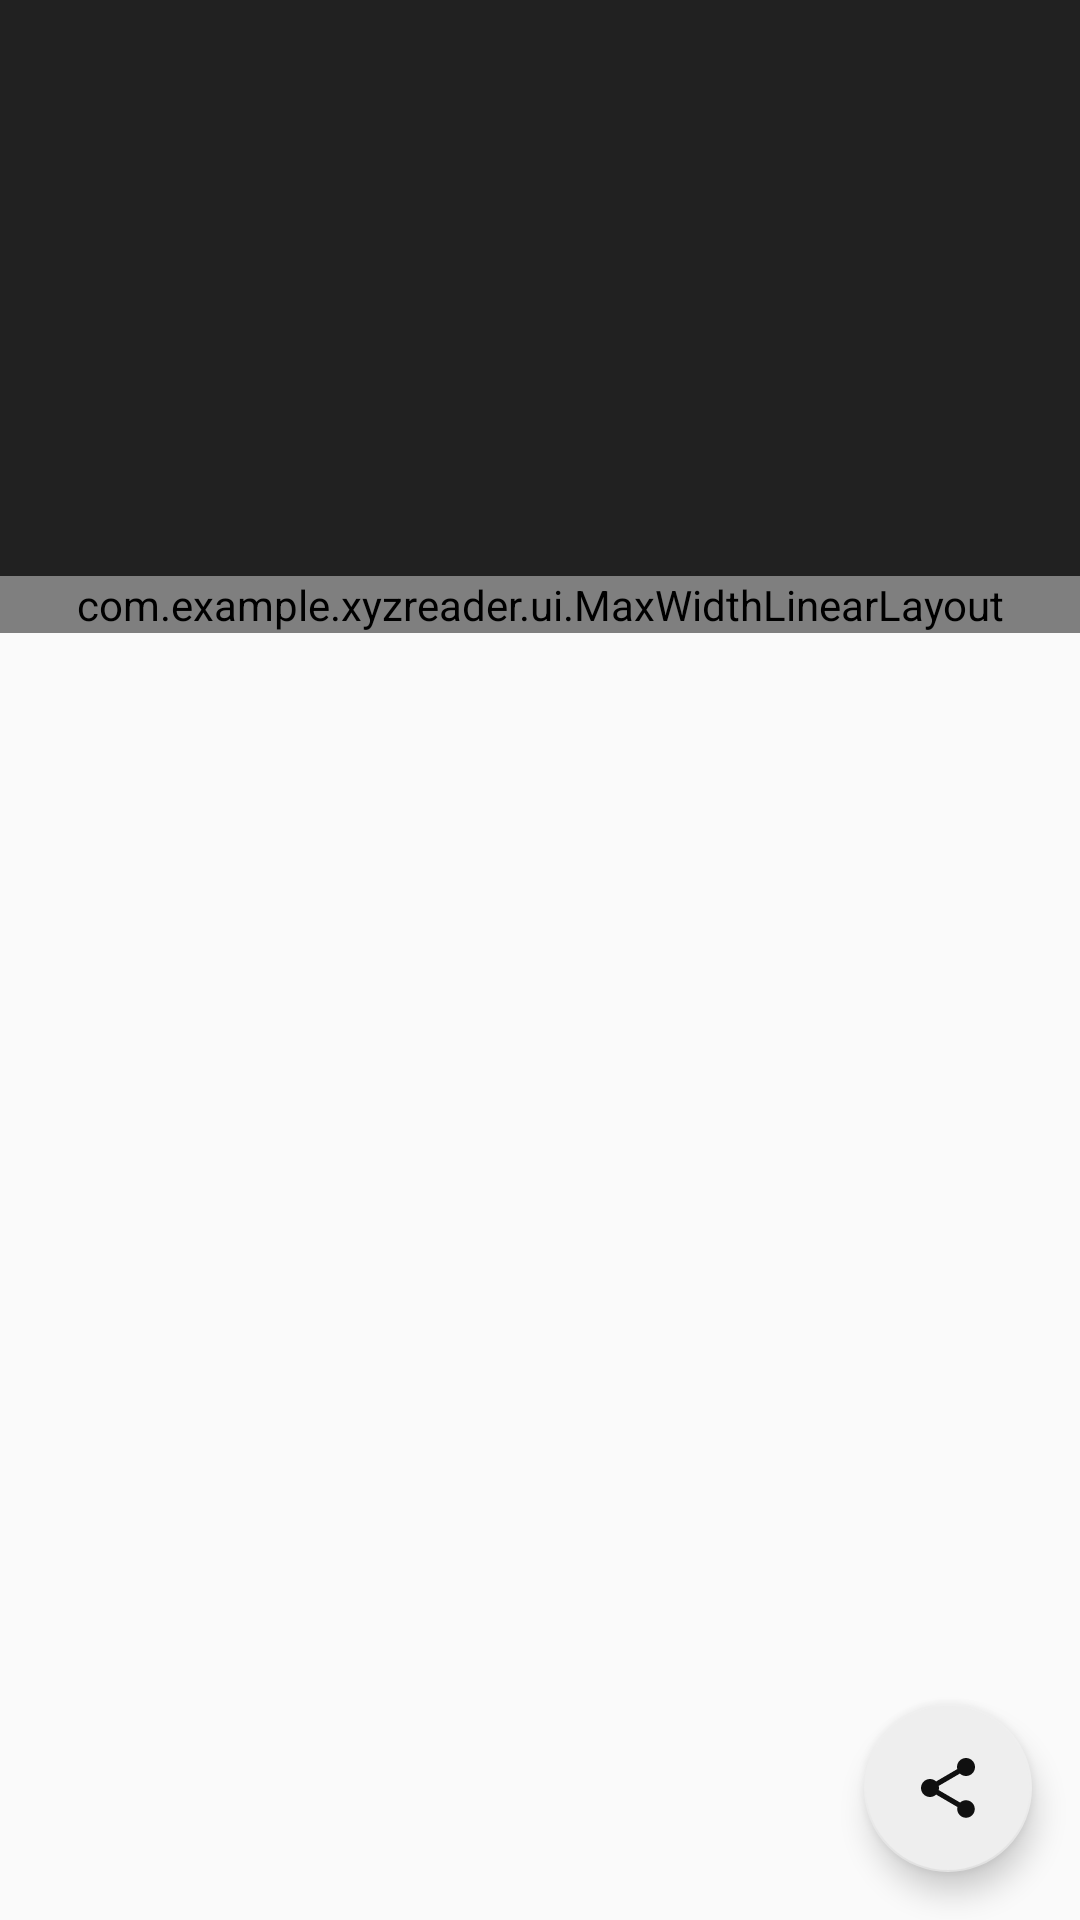

Where icons sit on this 1080x1920 app screen, as (x1, y1, x2, y2):
Share: (864, 1704, 1032, 1872)
